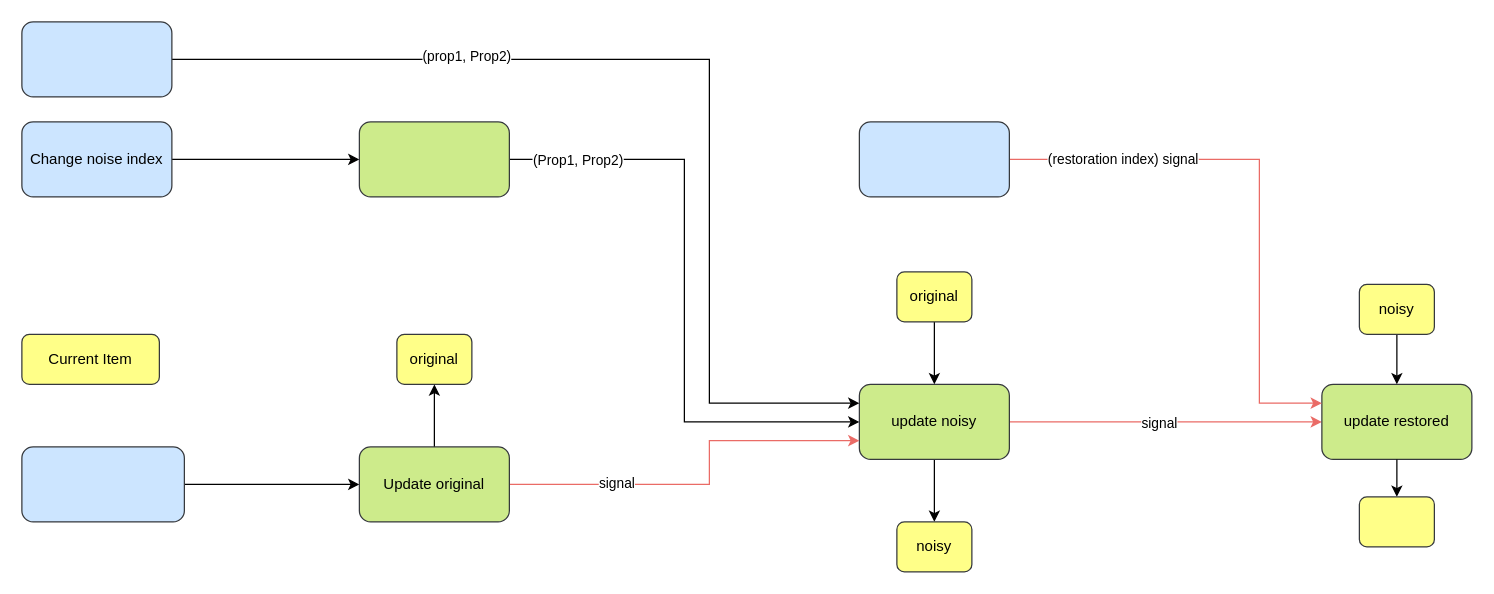
The diagram is 1494 pixels wide and 594 high, and some of its shapes have lost their labels. The centre of each missing label's shape, as x and y in pixels:
"Change image list index" goes at (x=102, y=484).
"change restoration index" goes at (x=933, y=159).
"Change Slider Value" goes at (x=96, y=59).
"restored" goes at (x=1396, y=521).
"update GUI" goes at (x=433, y=159).
